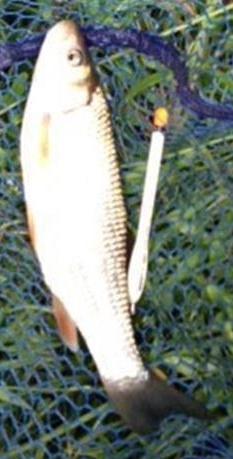Leuciscus cephalus: (20, 20, 213, 439)
